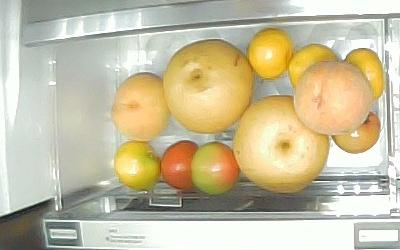peach: (293, 60, 371, 134), (110, 72, 170, 141)
pear: (233, 94, 329, 192), (162, 38, 254, 133)
tangerine: (248, 27, 292, 79), (114, 140, 159, 190), (345, 47, 385, 100), (288, 43, 338, 85)
tomato: (191, 141, 240, 197), (332, 111, 380, 154), (160, 139, 198, 190)
